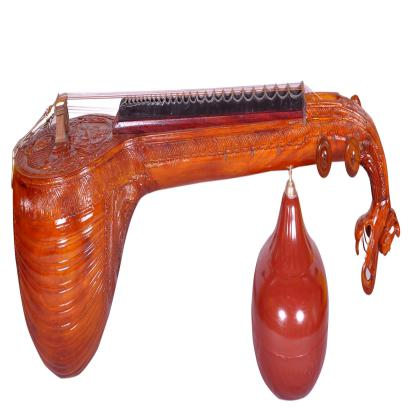Veena: (10, 63, 413, 225)
